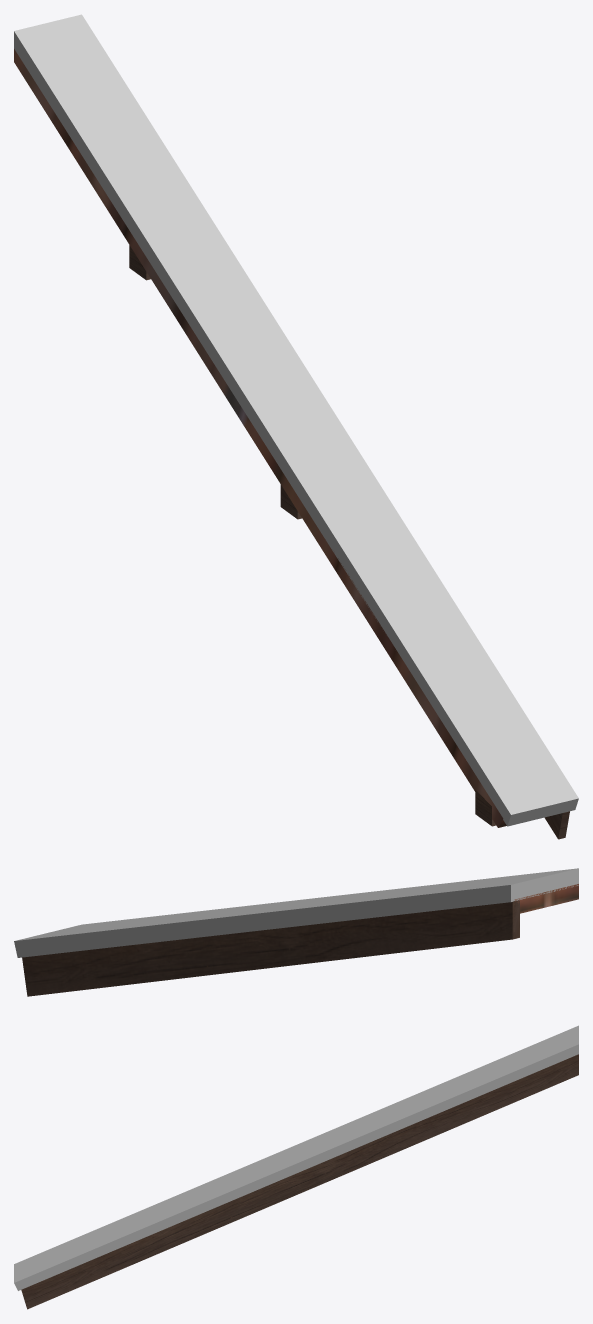
The model's file is kawara__x3t_a1end_l.fbx.
3 renders of one model, top to bottom at view 1: azimuth 30°, elevation 25°; view 2: azimuth 210°, elevation 25°; view 3: azimuth 270°, elevation 25°, orthographic. The views are drawn at different scales.
Visible parts, largest first — view 1: kawara__x3t_a1end_l; view 2: kawara__x3t_a1end_l; view 3: kawara__x3t_a1end_l.
Boxes of the visible parts, bbox=[...] form: kawara__x3t_a1end_l: bbox=[14, 14, 578, 839]; kawara__x3t_a1end_l: bbox=[14, 868, 578, 996]; kawara__x3t_a1end_l: bbox=[14, 1025, 578, 1309].
Size of the model in its own units: 30 by 197 by 380.
